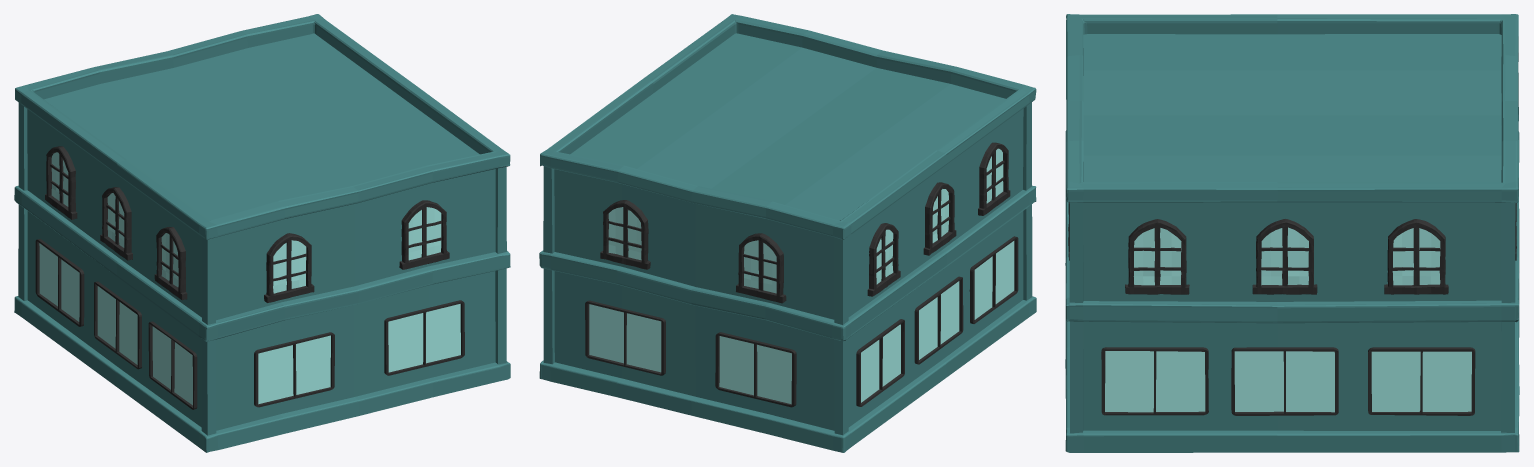
The model's file is school 1 full window.fbx.
3 renders of one model, left to right at view 1: azimuth 30°, elevation 25°; view 2: azimuth 150°, elevation 25°; view 3: azimuth 270°, elevation 25°, orthographic. The views are drawn at different scales.
Visible parts, largest first — view 1: Cube.045; view 2: Cube.045; view 3: Cube.045.
Boxes of the visible parts, left/top/right/bottom form: Cube.045: left=14, top=14, right=510, bottom=452; Cube.045: left=539, top=14, right=1036, bottom=452; Cube.045: left=1065, top=14, right=1519, bottom=452.
Size of the model in its own units: 1135 by 811 by 1242.
